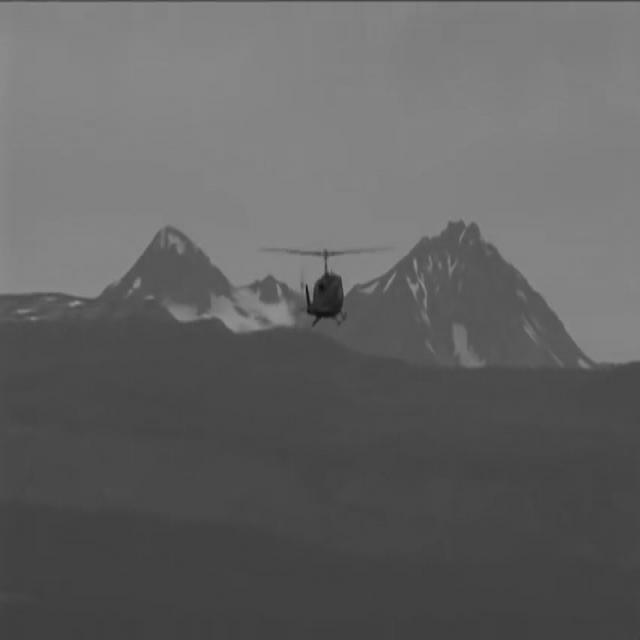helikopter: (272, 242, 378, 350)
